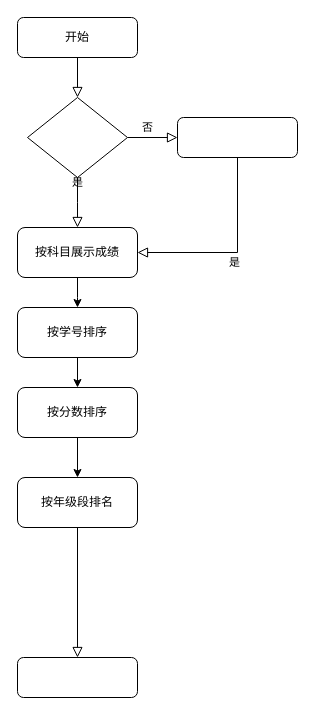
This 315x715 diagram has some shape labels left out. The box of each missing label's shape, as (x1, y1, x2, y2) in pixels:
是否已登录: (26, 96, 128, 178)
登录: (176, 116, 298, 158)
结束: (16, 656, 138, 698)
